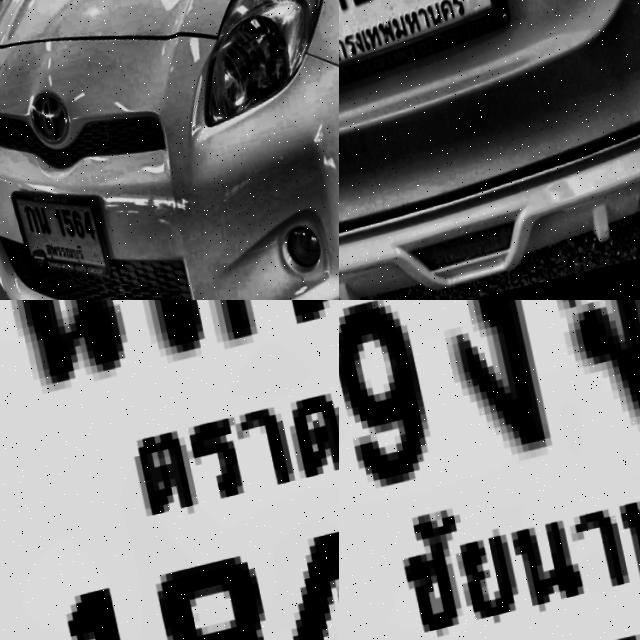license-plate: (0, 300, 339, 640), (339, 300, 640, 640), (339, 0, 518, 112), (4, 169, 111, 300)
